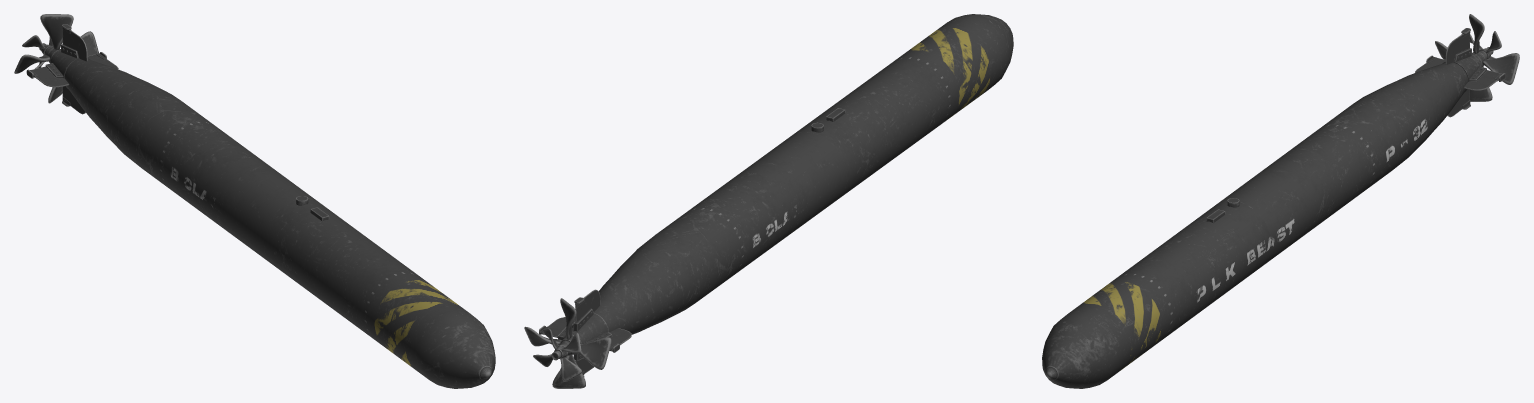
Rendered from torpede.glb.
3 renders of one model, left to right at view 1: azimuth 30°, elevation 25°; view 2: azimuth 150°, elevation 25°; view 3: azimuth 330°, elevation 25°, orthographic. The views are drawn at different scales.
Parts seen in each view (by area): view 1: body_low, system_low, big_propellers_low; view 2: body_low, big_propellers_low, system_low, small_propellers_low; view 3: body_low, system_low, big_propellers_low.
Part boxes in pixels (<box>): body_low: <box>50,50,495,388</box>; system_low: <box>26,24,118,114</box>; big_propellers_low: <box>14,14,98,103</box>; body_low: <box>565,14,1013,354</box>; big_propellers_low: <box>524,298,611,388</box>; system_low: <box>539,289,631,376</box>; small_propellers_low: <box>533,328,581,381</box>; body_low: <box>1042,54,1482,388</box>; system_low: <box>1415,28,1505,117</box>; big_propellers_low: <box>1435,14,1519,101</box>.
Size of the model in its own units: 0.0224 by 0.0227 by 0.2166.
1 material, 1 textured.
